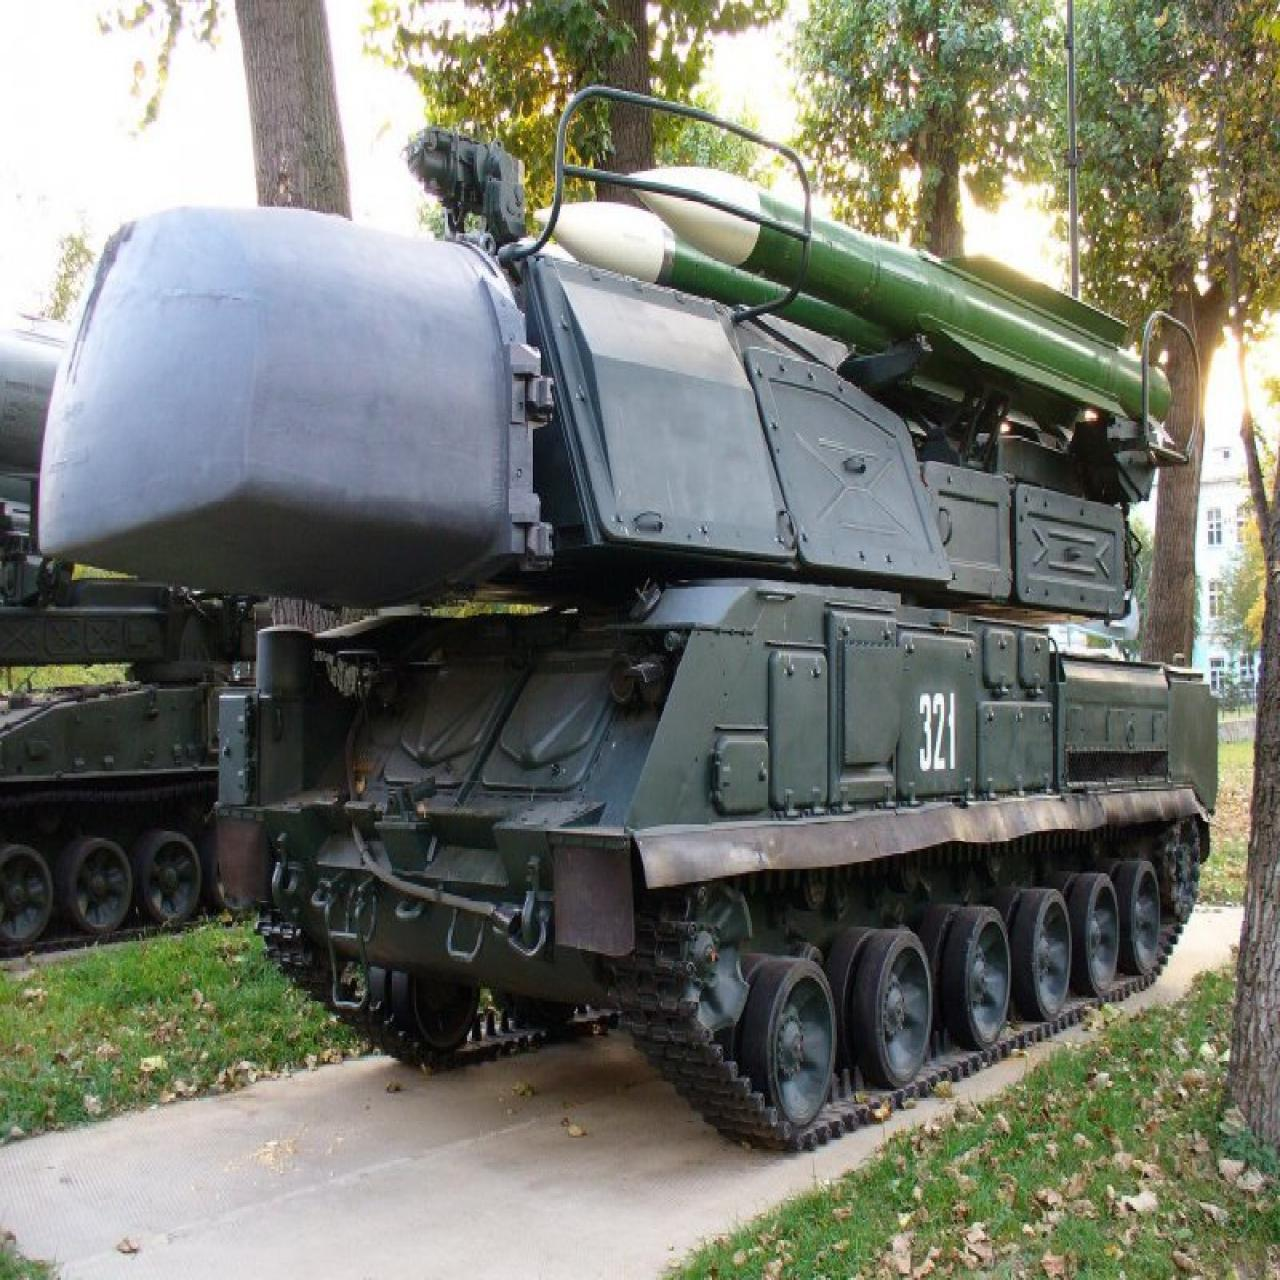MIL_Veh: (46, 122, 1207, 1135)
